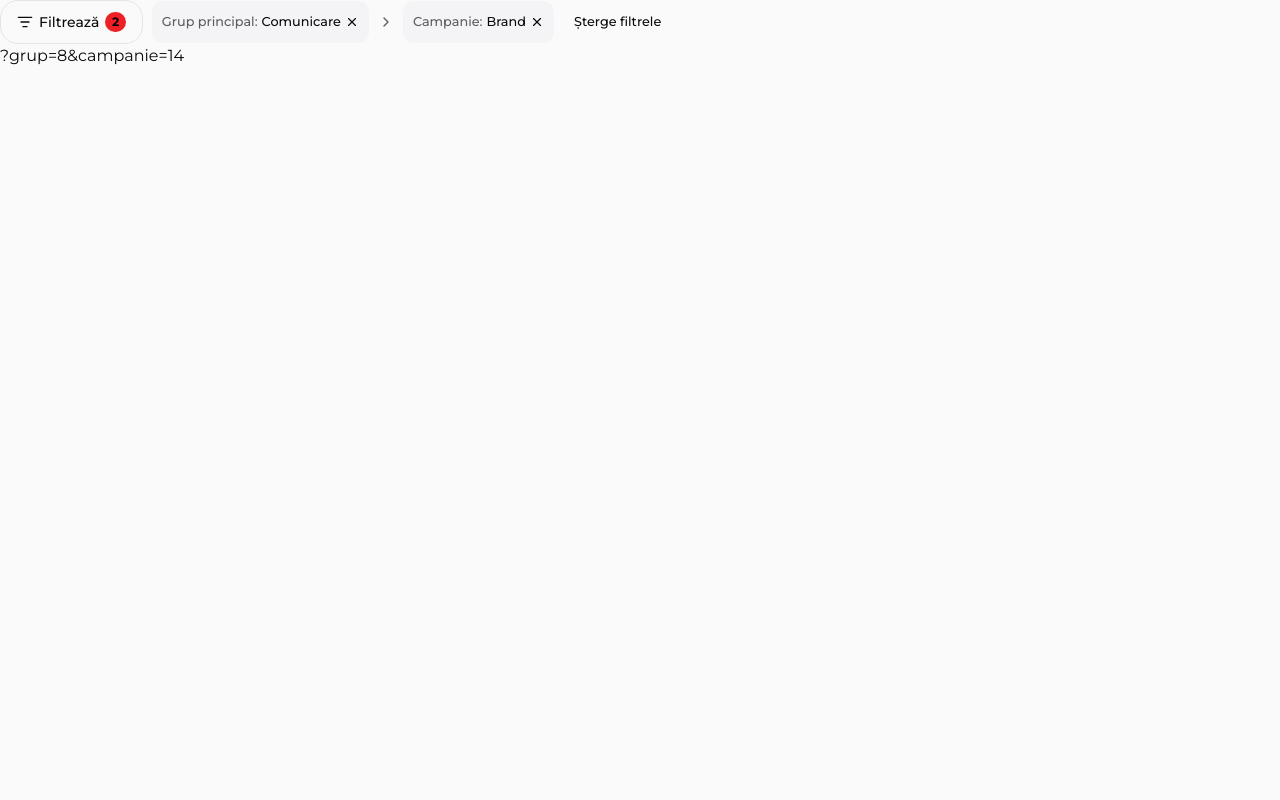
WorkFilter › Rule W › does not draw a level with one option or none, and shows its URL value as a chip
Expected: the button with aria-label "Elimină filtrul Campanie: Brand" is shown, [402,0,555,44]
Expected: the button with aria-label "Elimină filtrul Grup principal: Comunicare" is shown, [151,0,370,44]
Click the button "Filtrează 2". click: (71, 22)
box: [0,0,143,44]
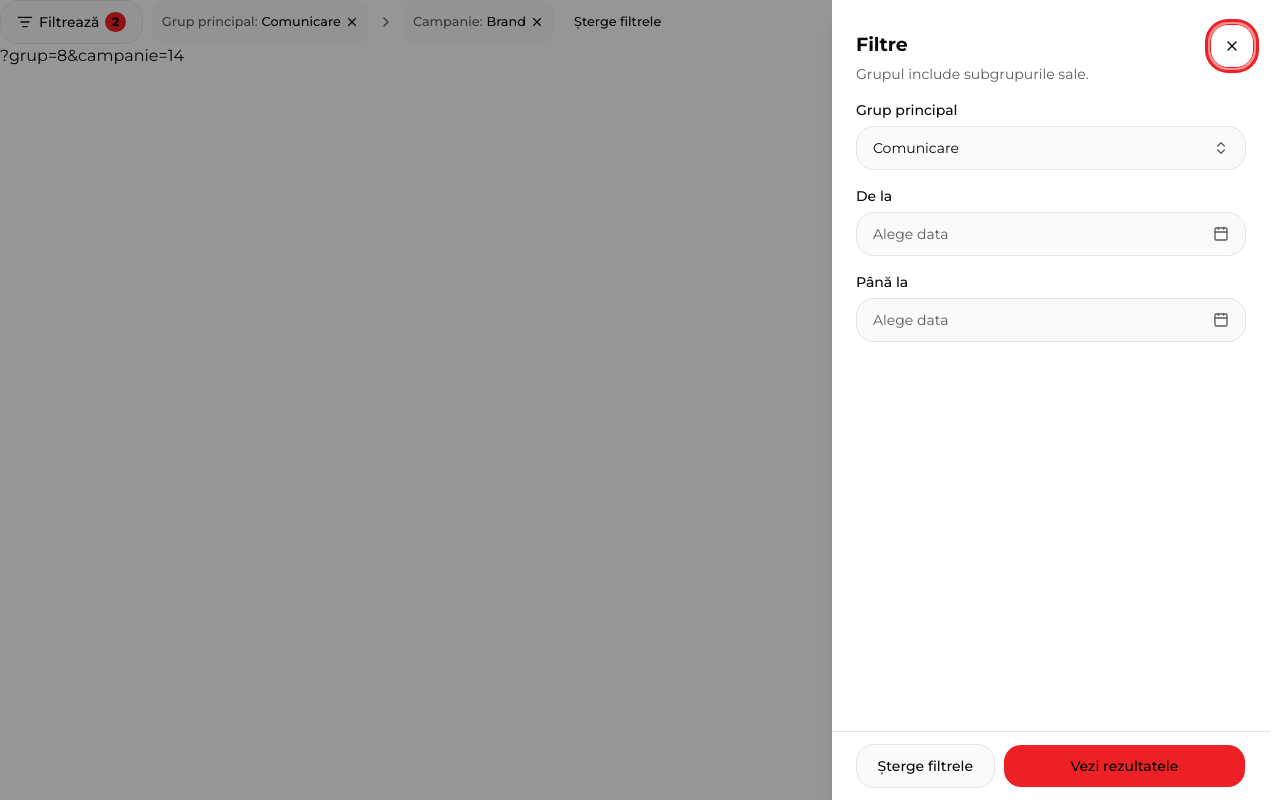
Now the dropdown named "Grup principal" is shown, box [856,126,1246,170]
